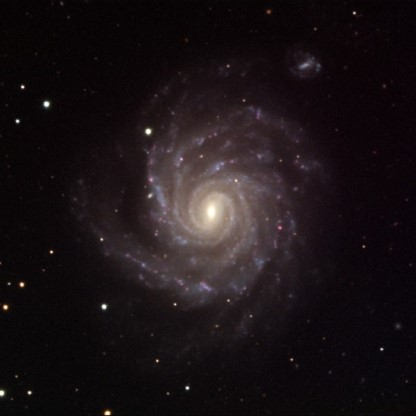NGC 1232: (67, 35, 340, 347)
